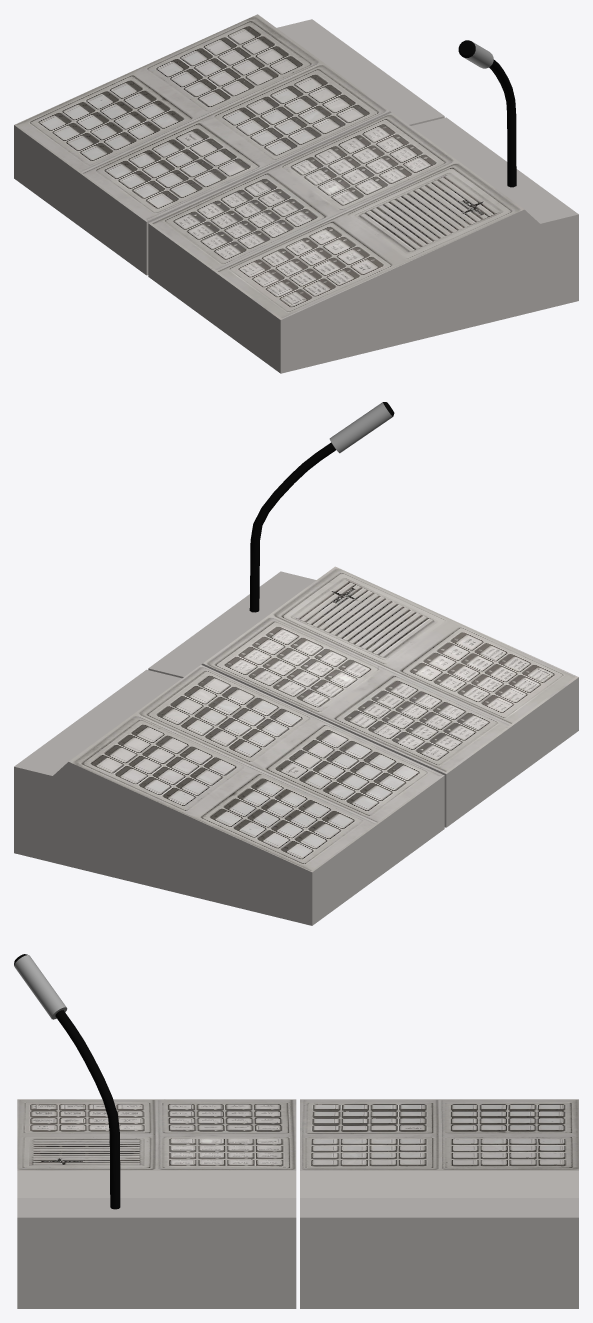
Rendered from Microphone.glb.
The picture shows the model from 3 angles, top to bottom: view 1: azimuth 30°, elevation 25°; view 2: azimuth 150°, elevation 25°; view 3: azimuth 270°, elevation 25°; orthographic projection. The views are drawn at different scales.
Visible parts, largest first — view 1: Mikrofon; view 2: Mikrofon; view 3: Mikrofon.
Boxes of the visible parts, x1,y1,x2,y2 form: Mikrofon: (14, 14, 578, 373); Mikrofon: (14, 402, 578, 925); Mikrofon: (14, 954, 578, 1308).
Size of the model in its own units: 0.265 by 0.241 by 0.4129.
Materials: 6 (2 with a texture image).
